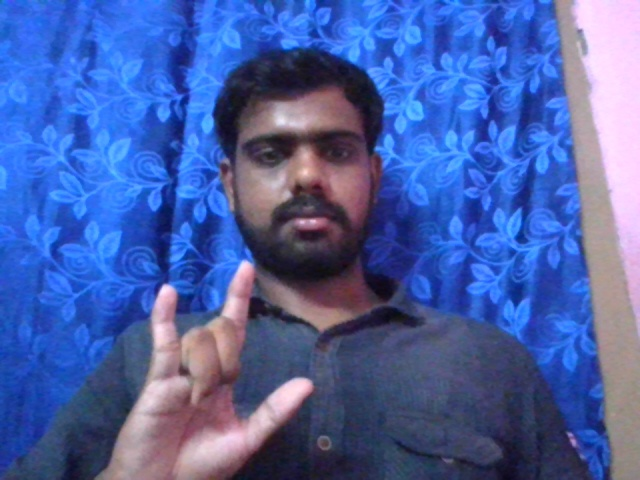IloveYou: (103, 258, 323, 477)
